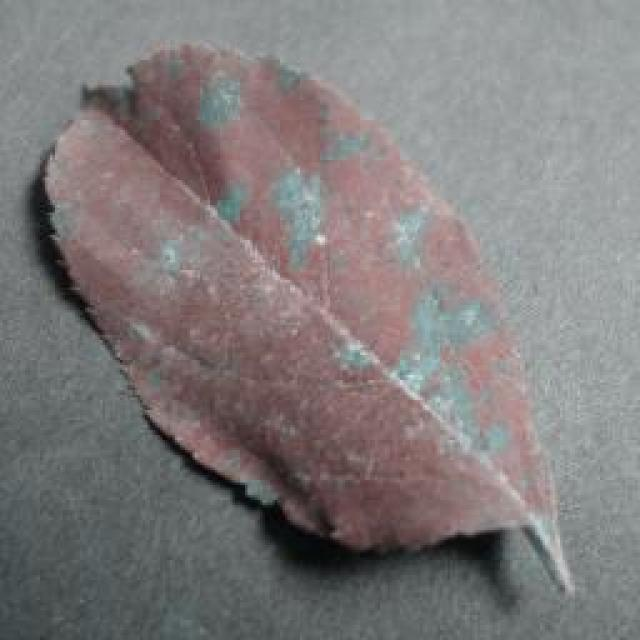apple cedar apple rust: (37, 38, 575, 592)
